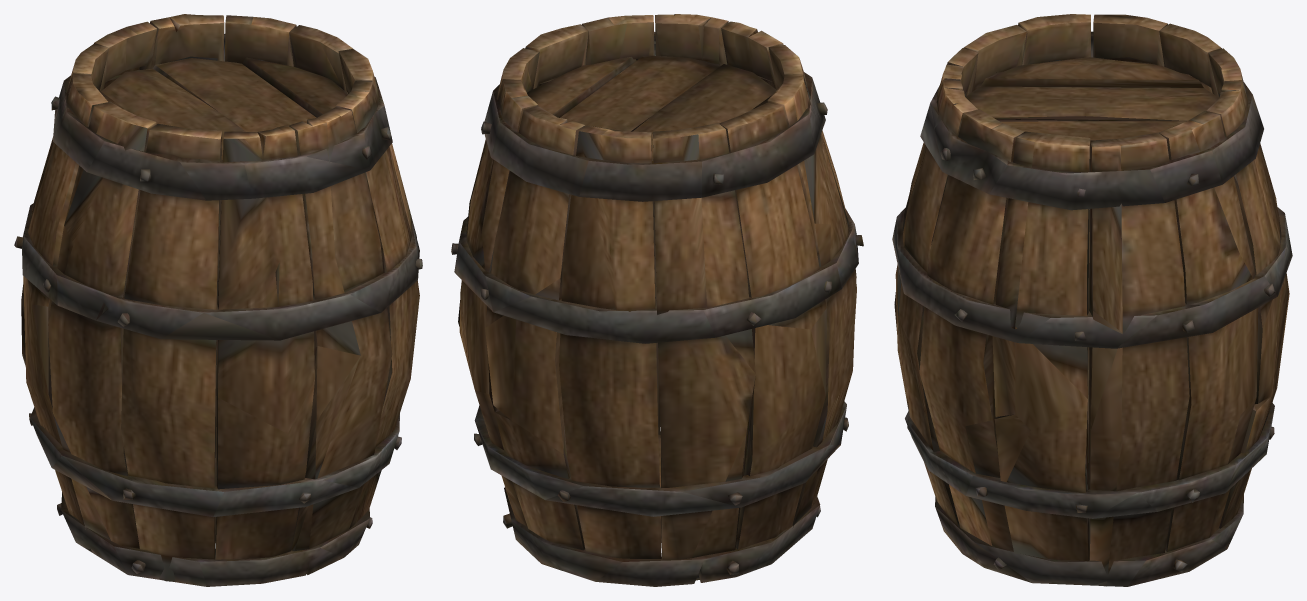
File: barrel.glb
3 renders of one model, left to right at view 1: azimuth 30°, elevation 25°; view 2: azimuth 150°, elevation 25°; view 3: azimuth 270°, elevation 25°, orthographic.
Parts seen in each view (by area): view 1: barrel; view 2: barrel; view 3: barrel.
Part boxes in pixels (<box>): barrel: <box>14,14,422,586</box>; barrel: <box>451,14,863,586</box>; barrel: <box>892,14,1292,586</box>.
Bounding box in the file's own units: 0.8029 × 0.9987 × 0.801.
Materials: 1 (1 with a texture image).
